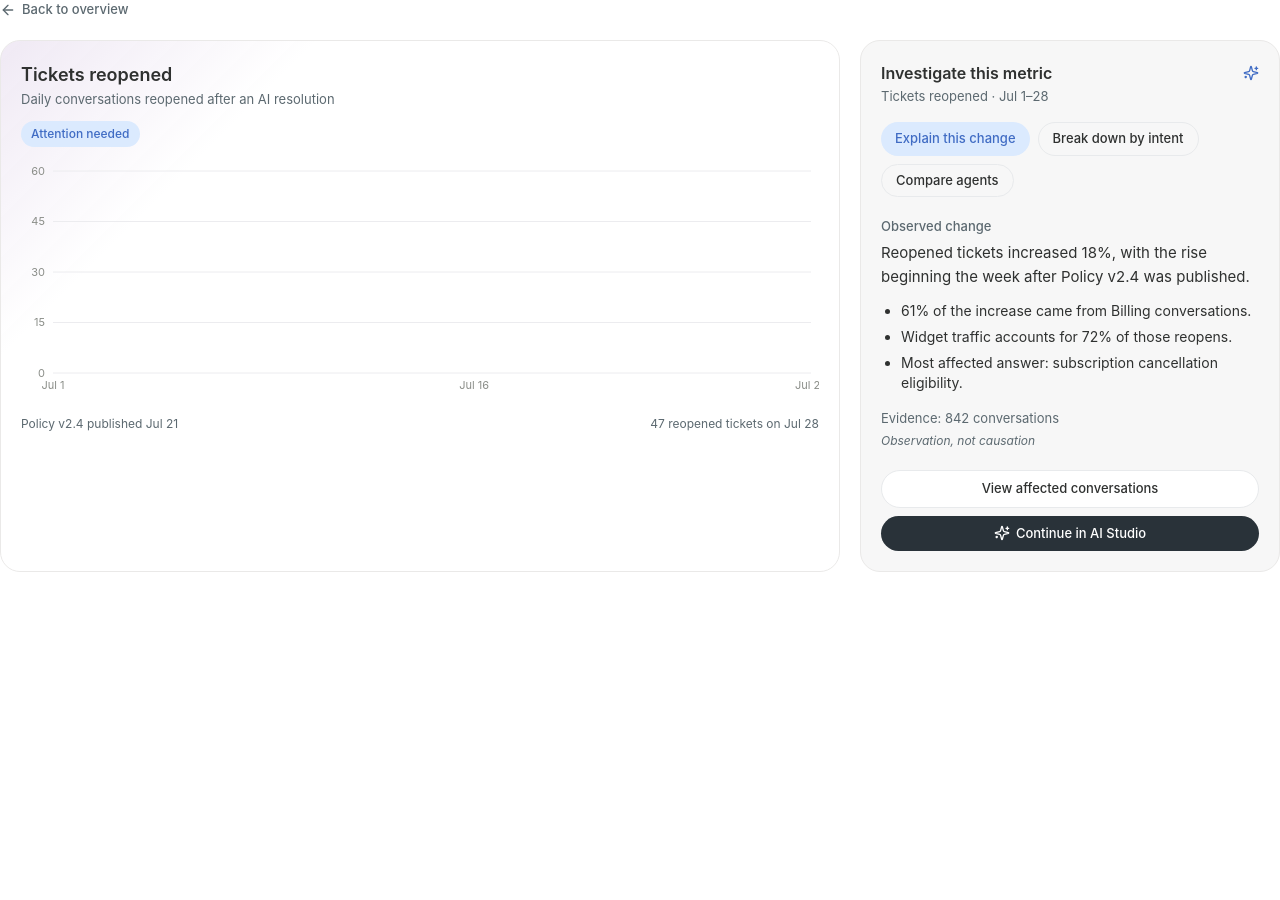
Test case: InvestigationWorkspace › Continue in AI Studio opens a populated conversation seeded with the chart and analysis
Click the button "Continue in AI Studio" at (1070, 533), box [881, 516, 1259, 551]
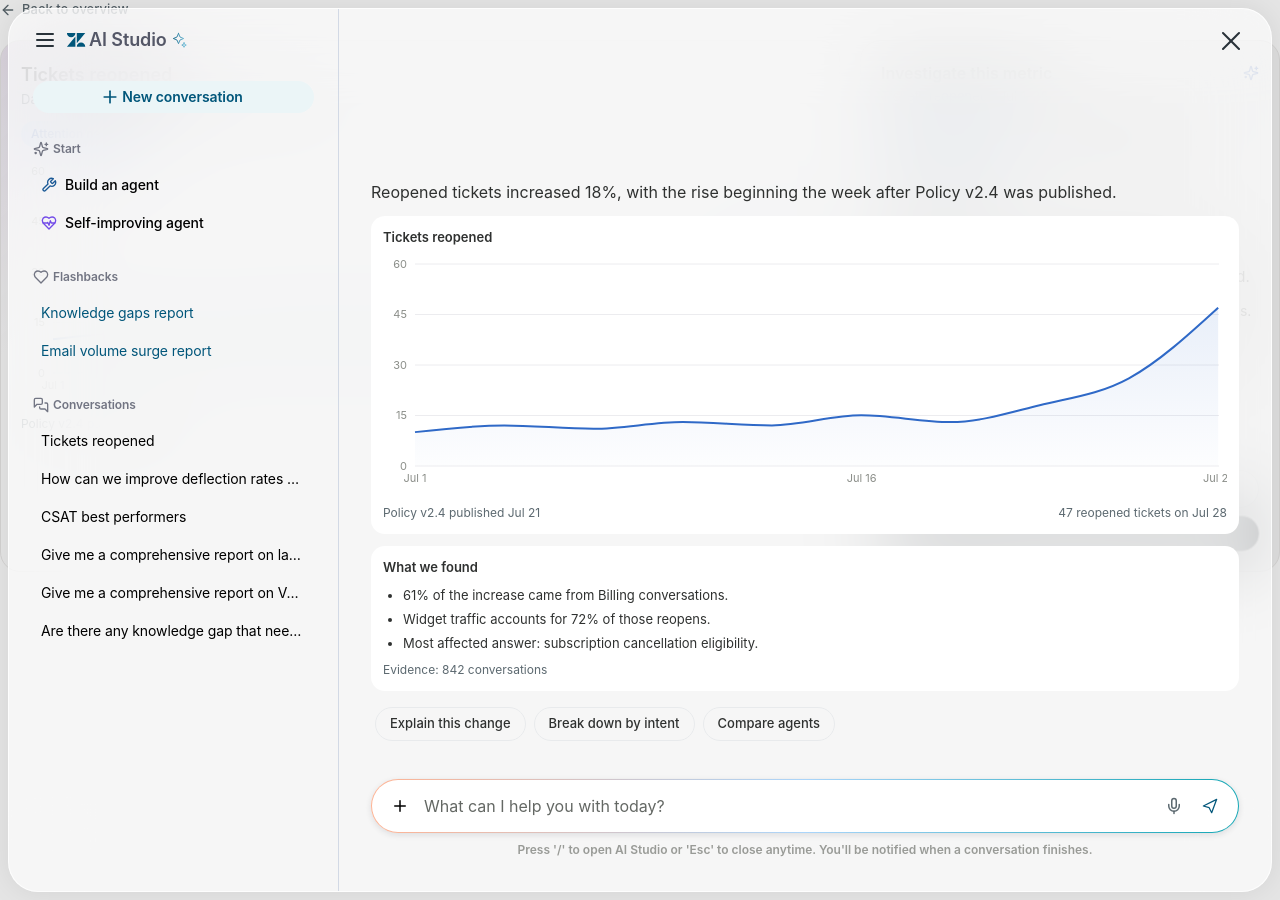
Result: the element with test id "ai-studio-conversation-body" shows "Reopened tickets increased 18%, with the rise beginning the week after Policy v2.4 was published." at [371, 182, 1117, 202]
Result: the element with test id "ai-studio-conversation-body" shows "Policy v2.4 published Jul 21" at [383, 504, 540, 520]
Result: the element with test id "ai-studio-conversation-body" shows "47 reopened tickets on Jul 28" at [1058, 504, 1227, 520]
